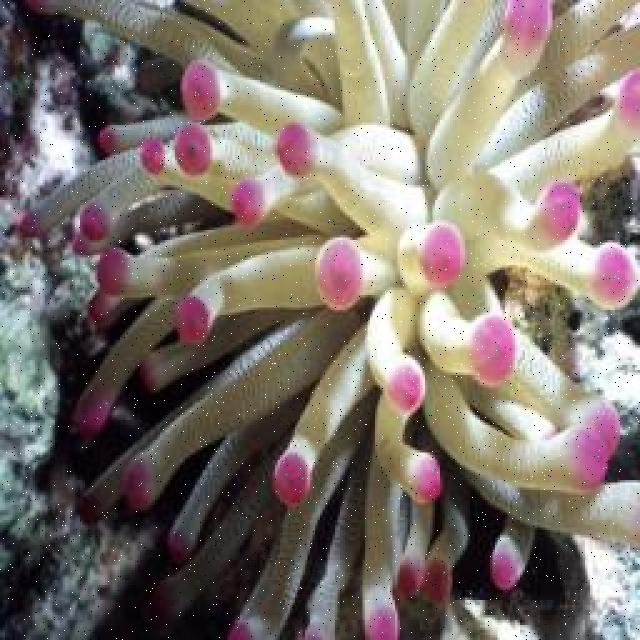reefs: (0, 0, 638, 638)
